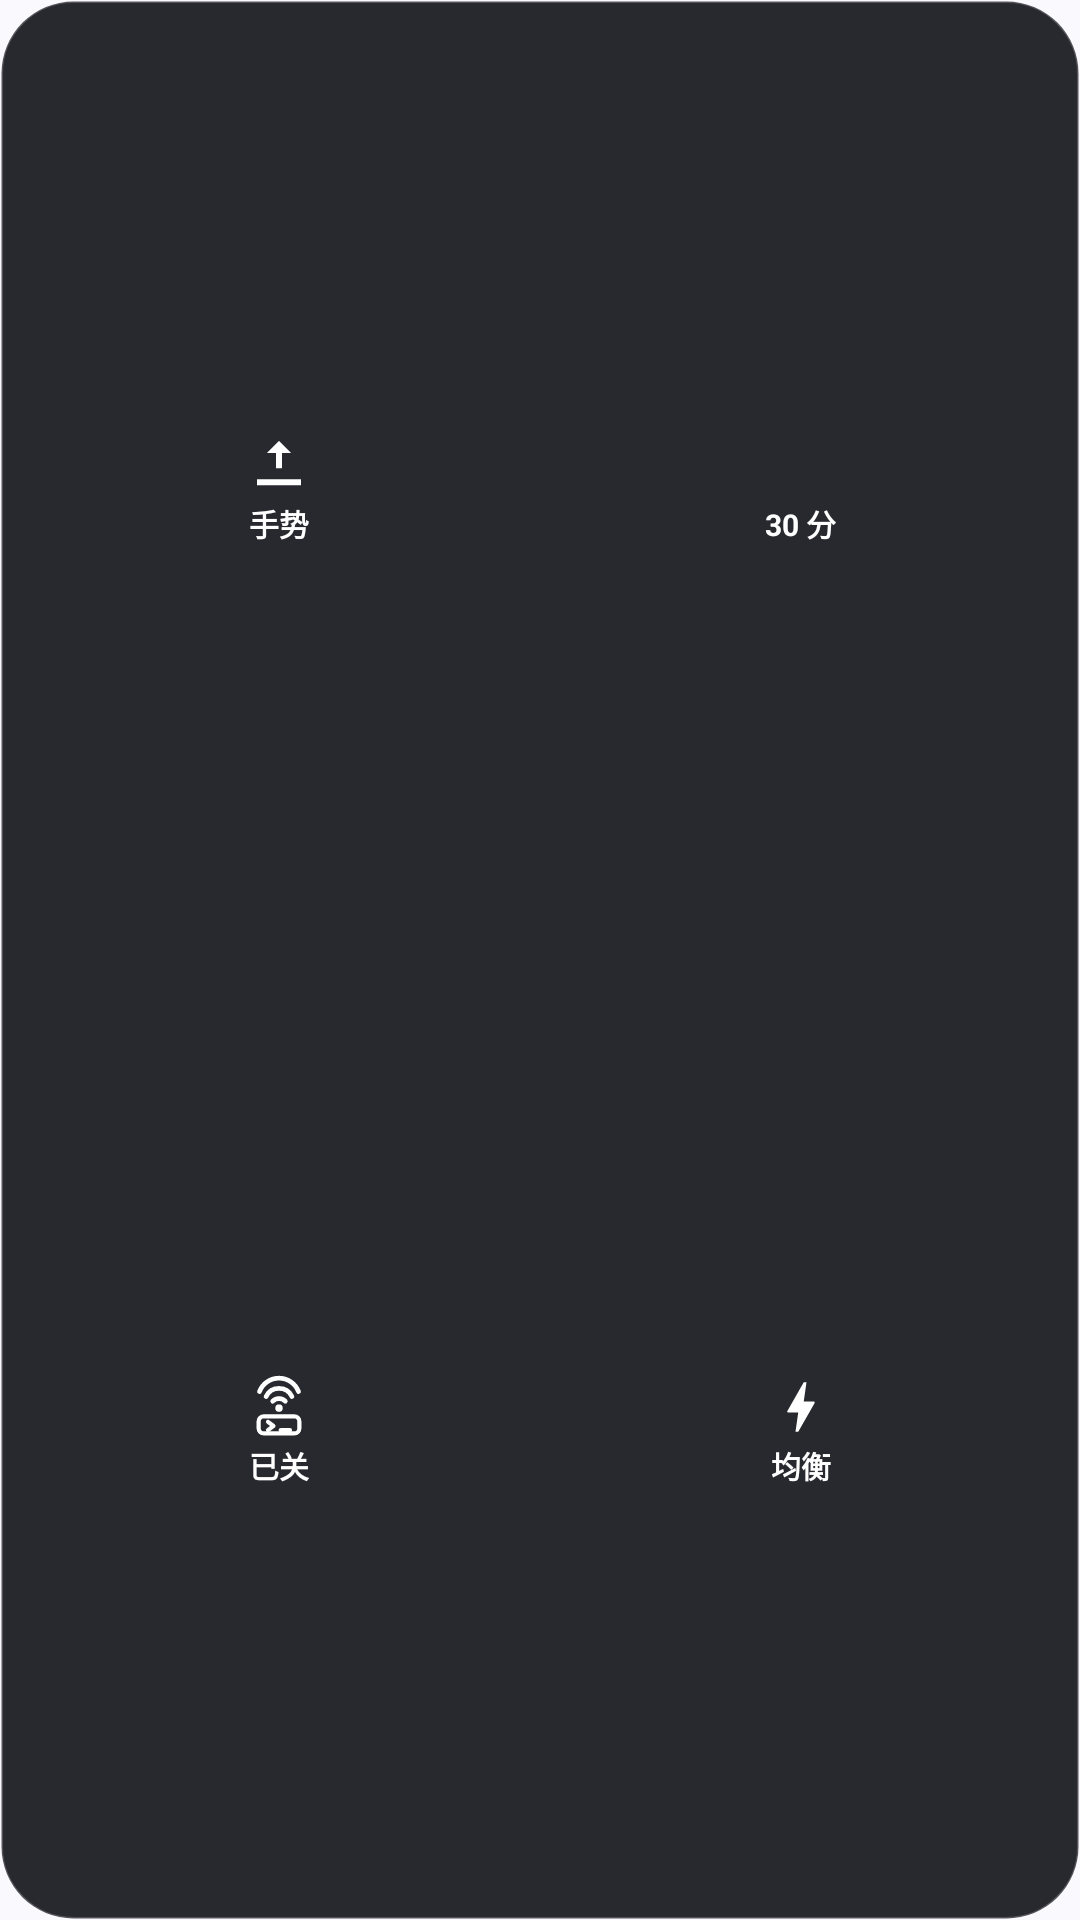

Icons on this 1080*1920 Android screen, each with its box as (left=x1, top=y1, right=x2, bottom=y2):
导航方式图标: (left=257, top=441, right=301, bottom=486)
性能模式图标: (left=787, top=1382, right=815, bottom=1432)
无线调试图标: (left=256, top=1375, right=302, bottom=1436)
